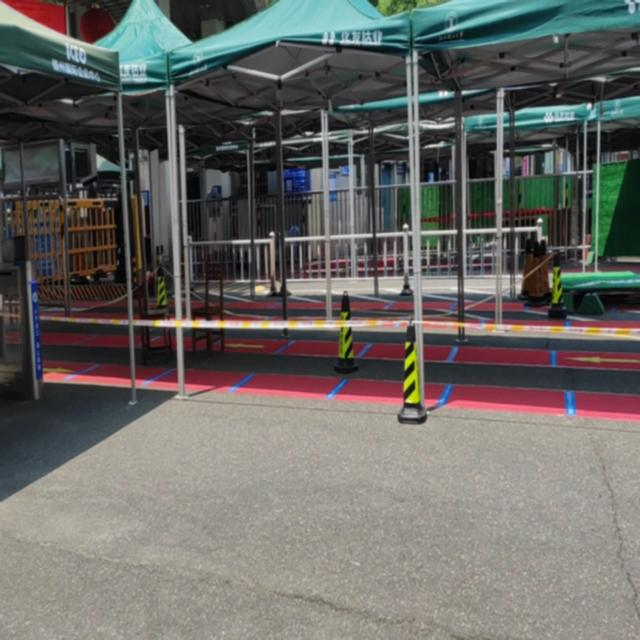reflective_cone: (397, 314, 428, 423), (332, 289, 359, 374), (548, 250, 568, 319), (527, 239, 547, 306), (155, 262, 168, 308)
